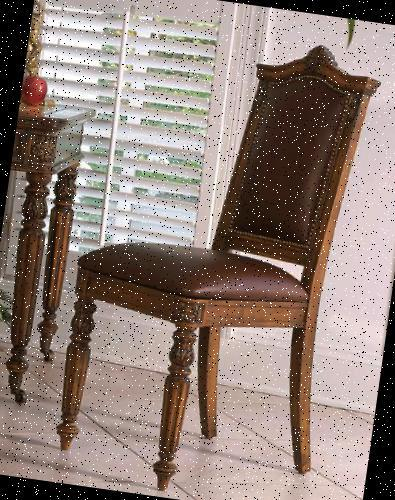Silla: (44, 21, 381, 499)
